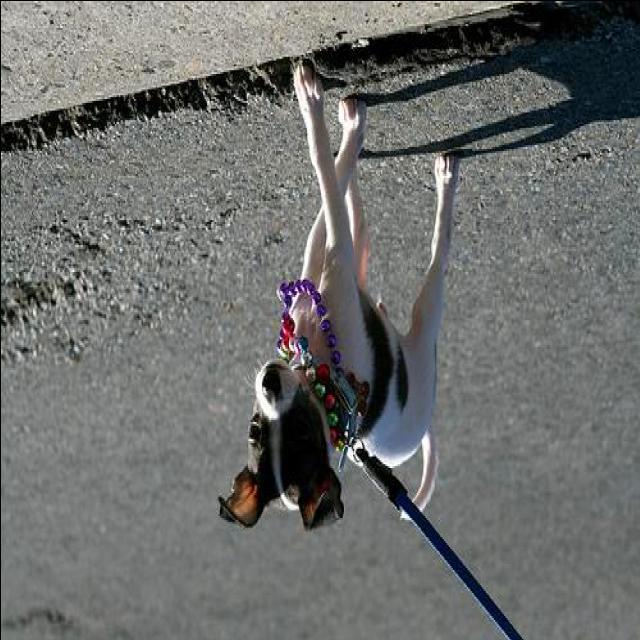toy_terrier: (215, 54, 461, 526)
